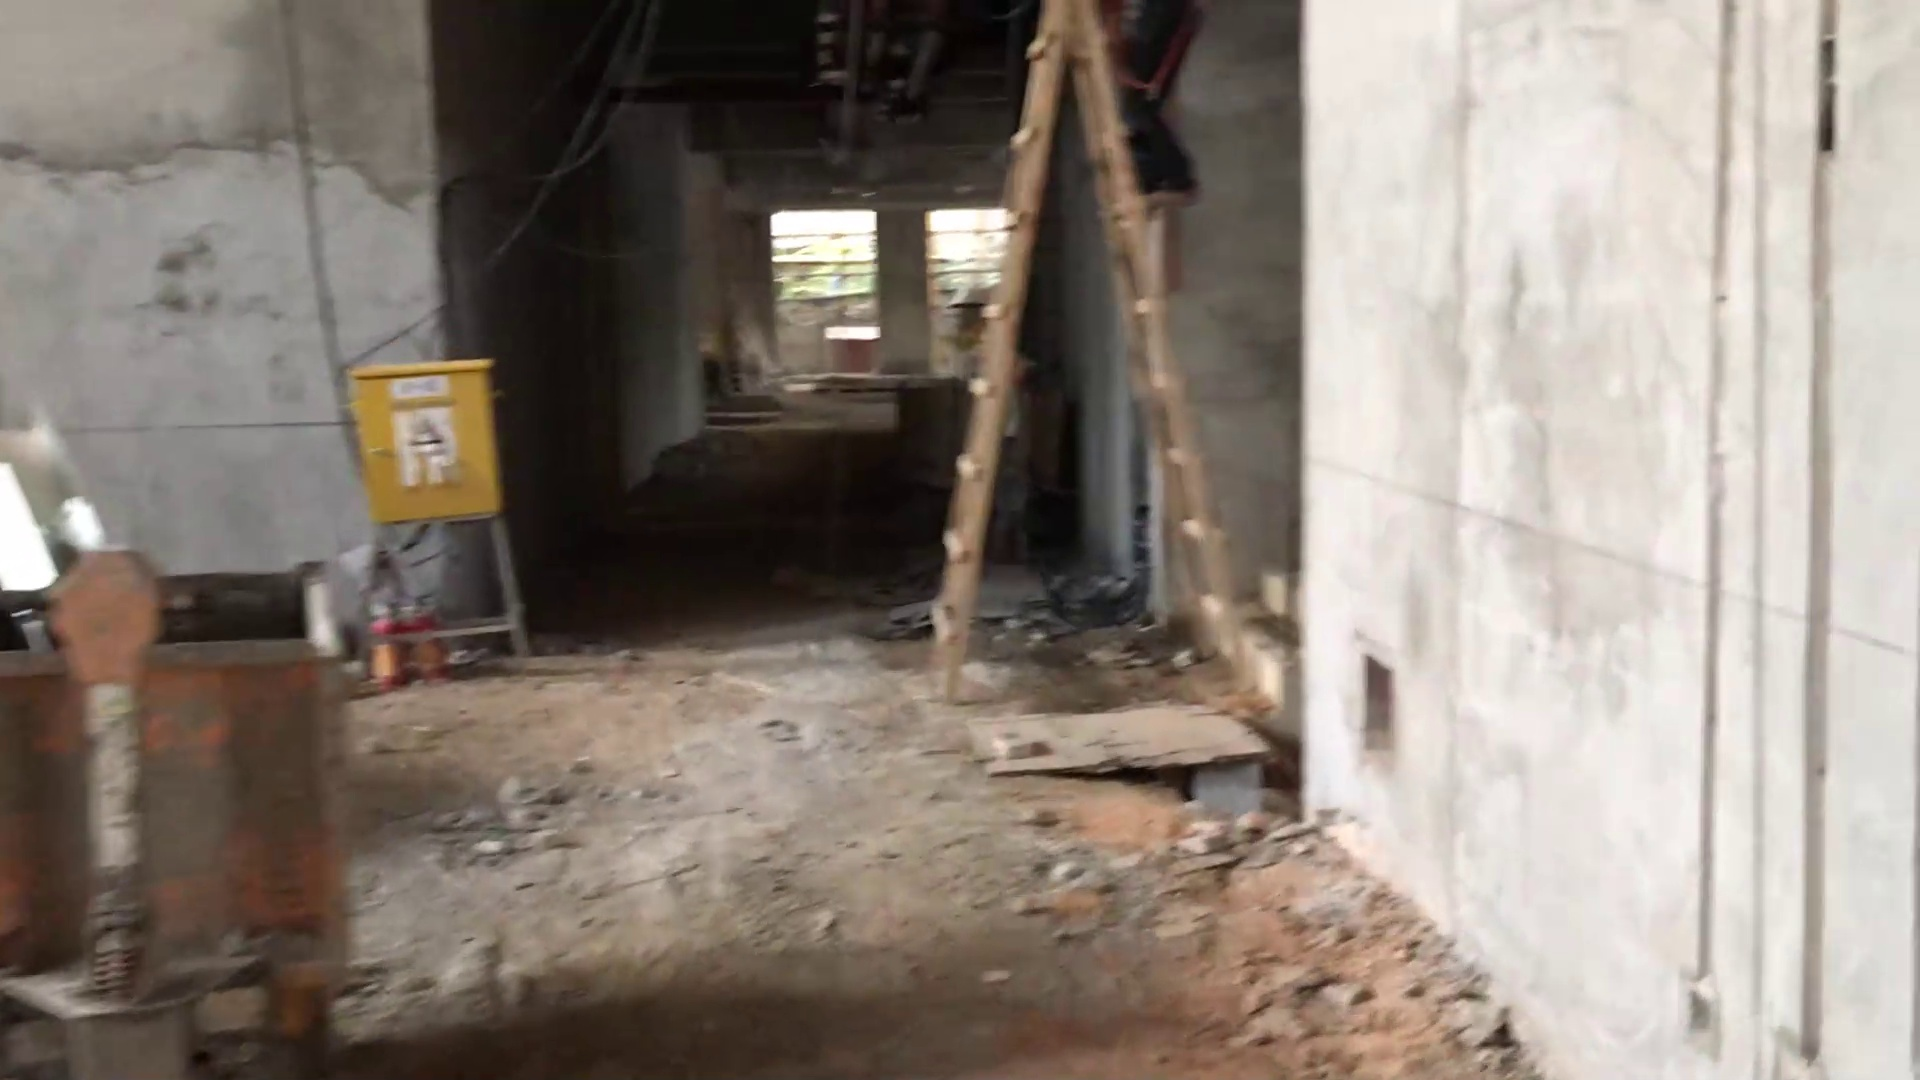ebox: (332, 342, 538, 538)
